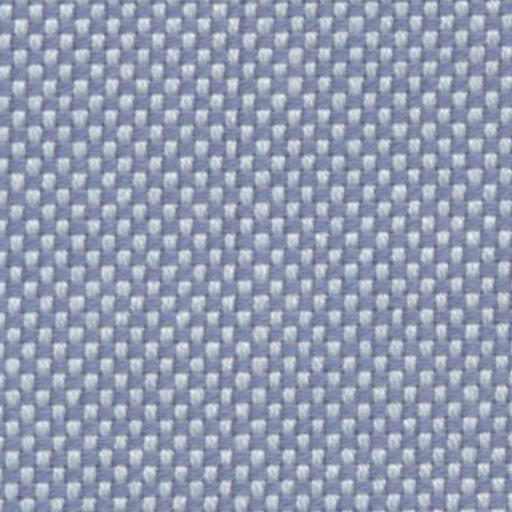TuoSha: (201, 9, 287, 497)
